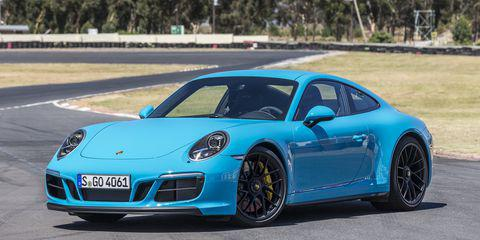car: (39, 65, 448, 236)
